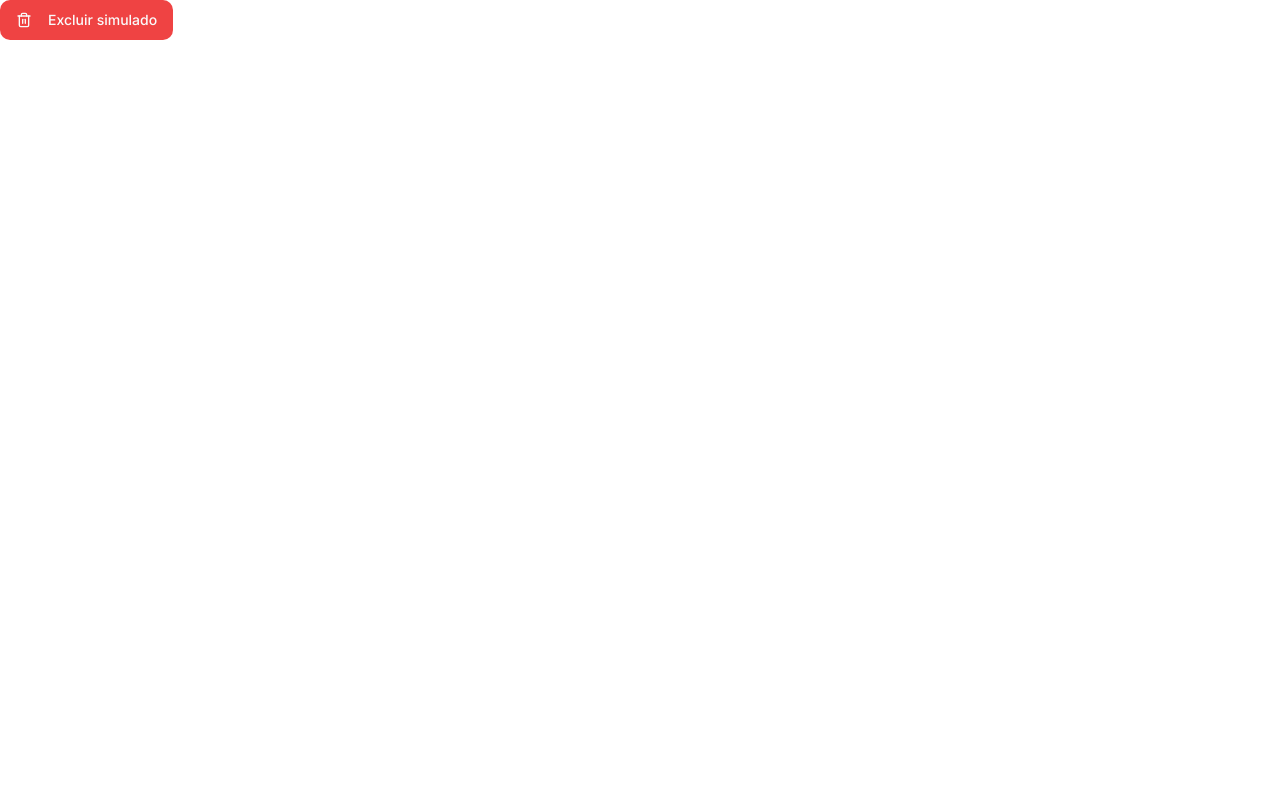
Test case: ExcluirSimuladoButton › sem respostas: exige nome digitado antes de excluir
Later steps or results of the test are not shown.
Step 1. Click the button "Excluir simulado" → {"x": 87, "y": 20}, box [0, 0, 173, 40]
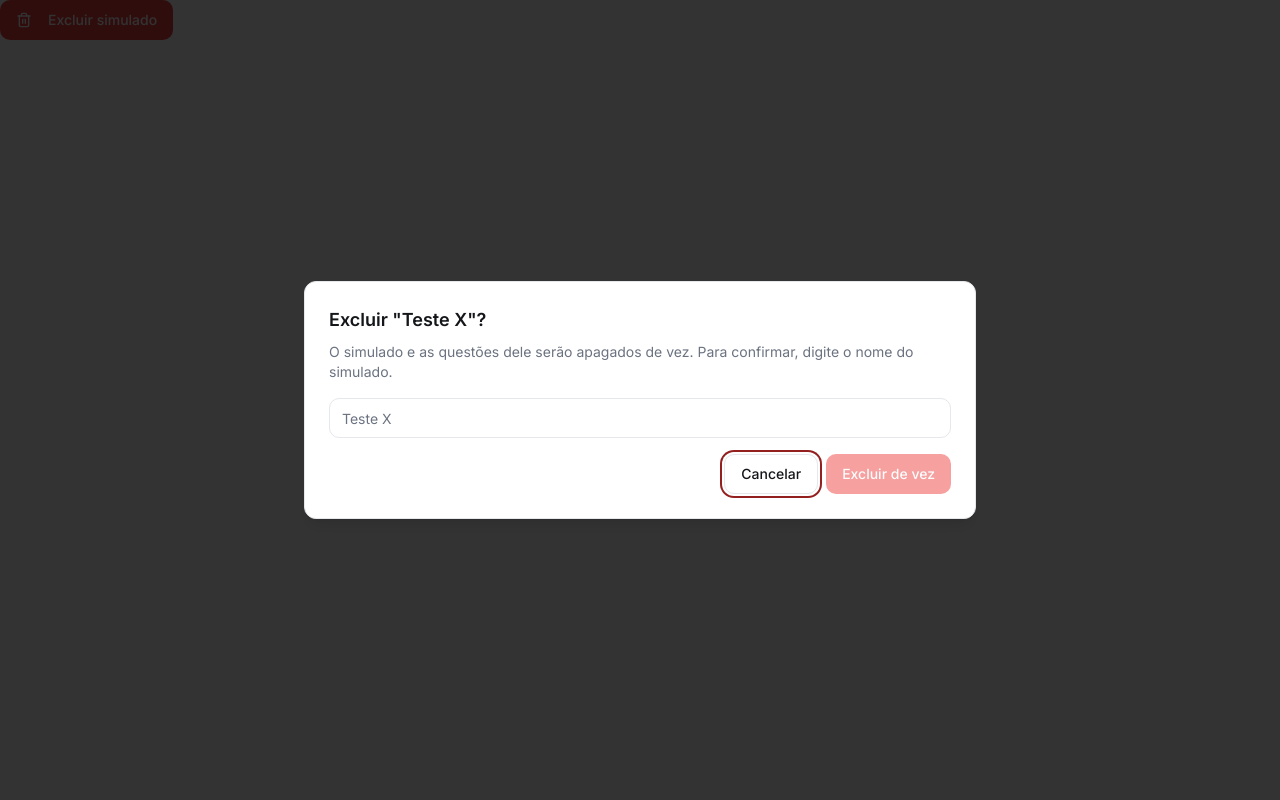
Now the button "Excluir de vez" is disabled, box [826, 454, 951, 494]
